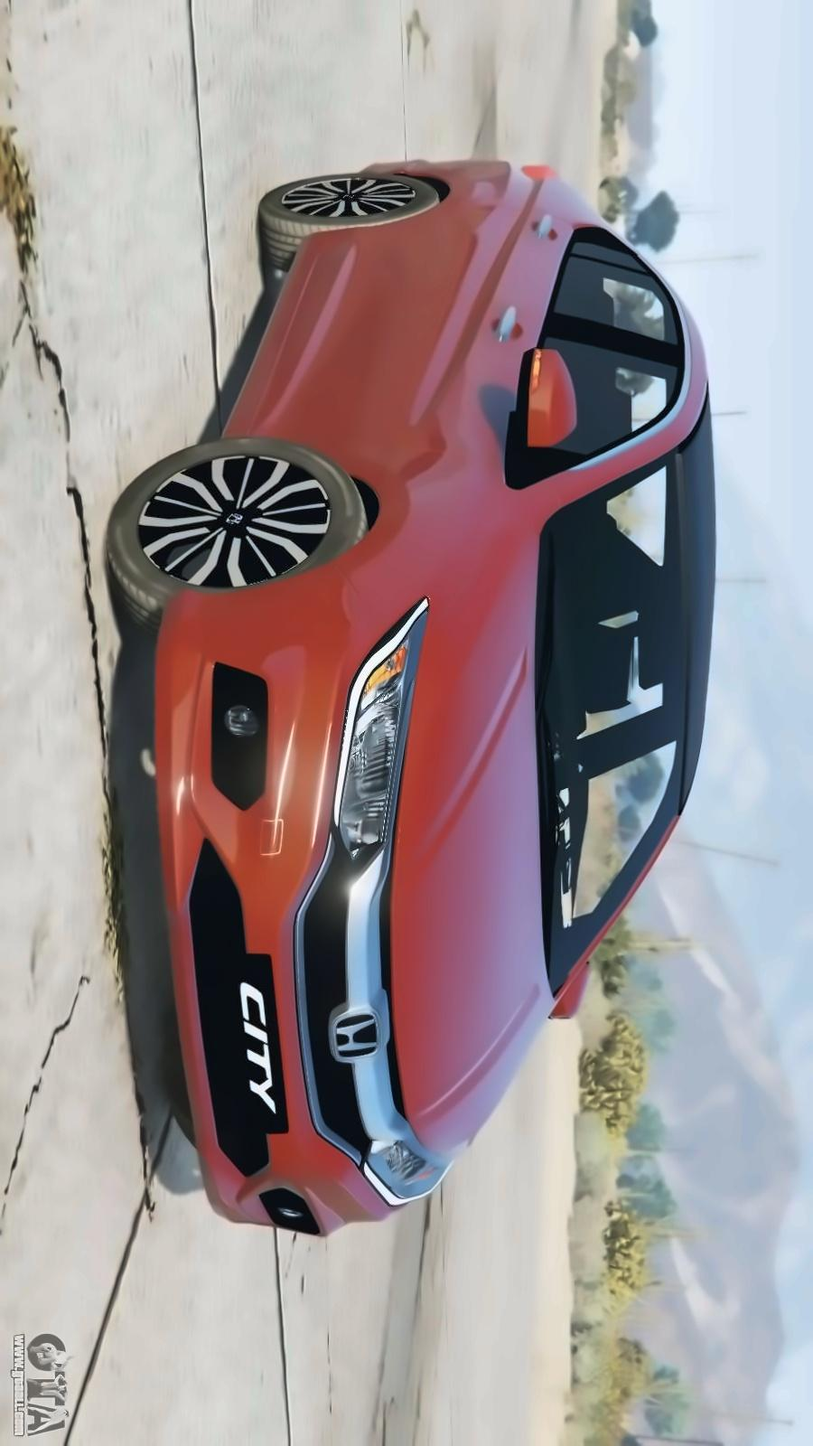Car hood: (380, 479, 559, 1156)
Driver-s door - -F-R-: (210, 312, 713, 508)
Fender - -F-R-: (300, 452, 432, 656)
Fender - -R-R-: (369, 174, 483, 242)
Front bumper: (149, 585, 360, 1234)
Headlight - -L-: (362, 1128, 470, 1216)
Headlight - -R-: (320, 597, 436, 877)
Passenger-s door - -R-R-: (215, 219, 744, 369)
Rear bumper: (328, 138, 519, 198)
Rear light - -R-: (506, 156, 565, 190)
Side bumper - -R-: (213, 217, 358, 477)
Side mirror - -L-: (549, 958, 593, 1022)
Side mirror - -R-: (508, 337, 583, 461)
